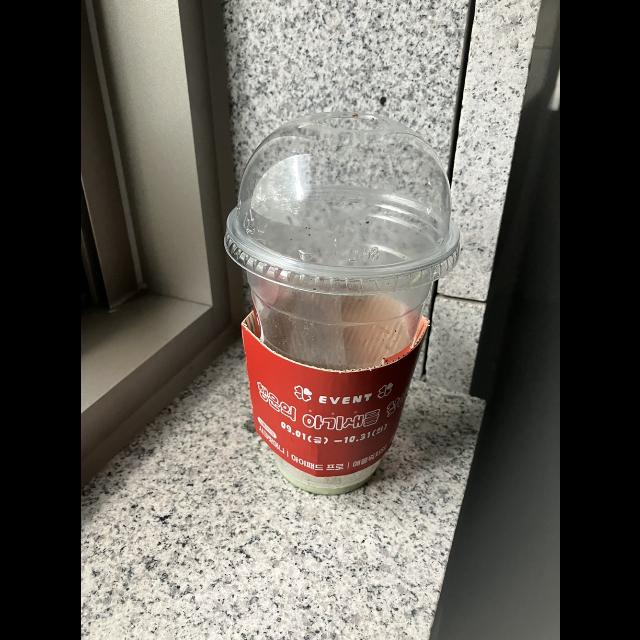plastic_cup: (220, 113, 466, 497)
plastic_cup_lid: (227, 118, 463, 292)
